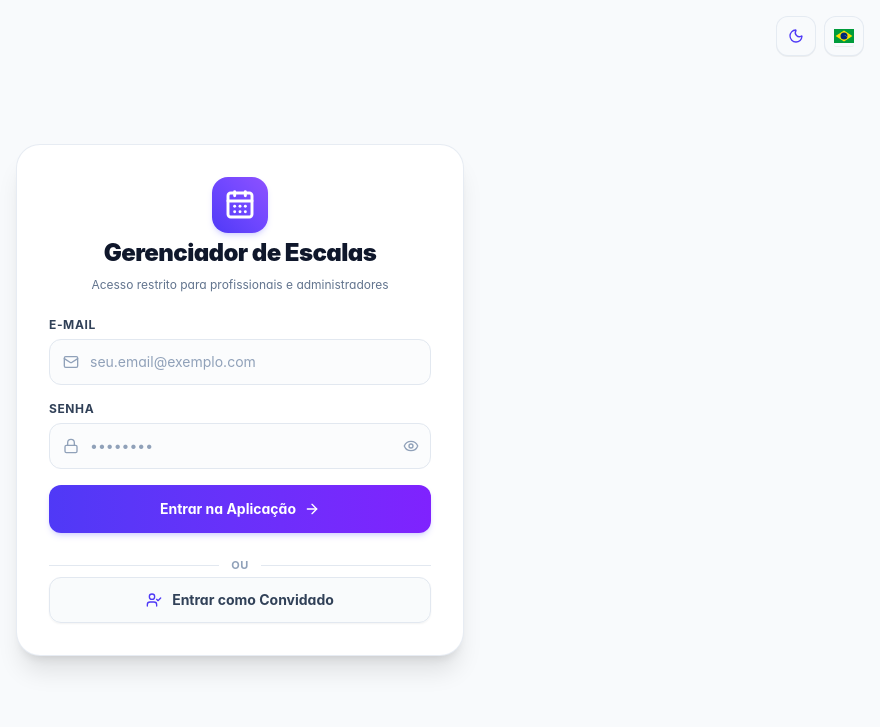
Test: LoginPage › shows a friendly error for invalid credentials
Type "errado@exemplo.com" into the field labelled "E-mail" at (240, 362), box [49, 339, 431, 385]
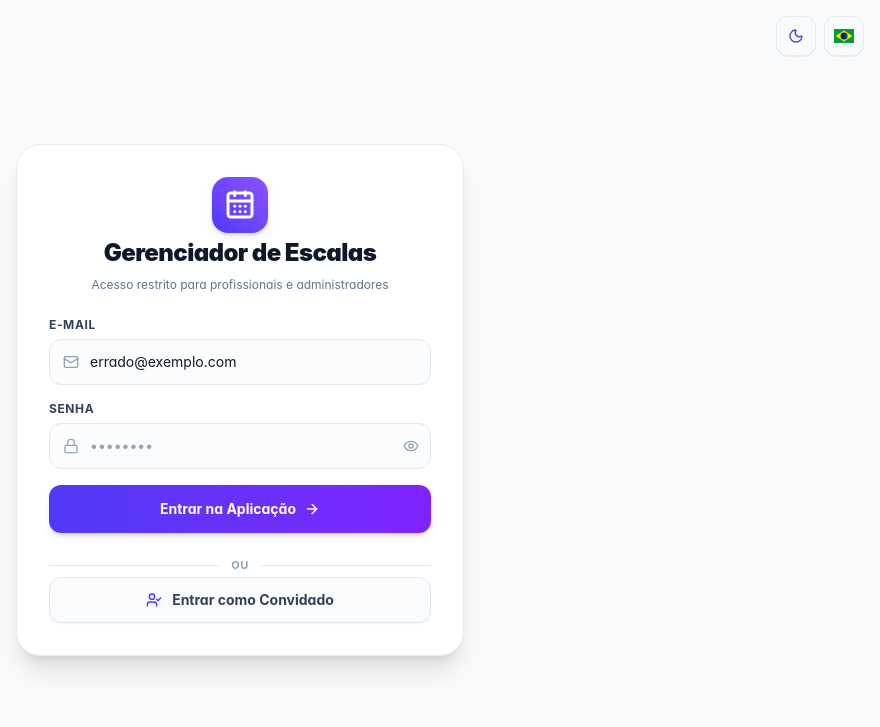
Type "senha123" into the password field labelled "Senha" at (240, 446), box [49, 423, 431, 469]
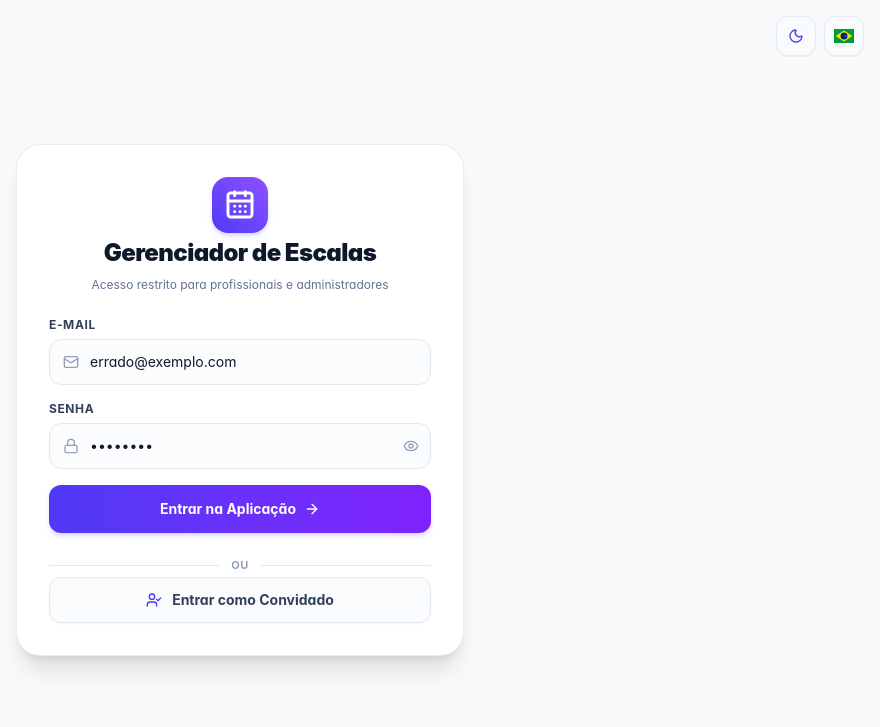
Click the button "Entrar na Aplicação" at (240, 509), box [49, 485, 431, 533]
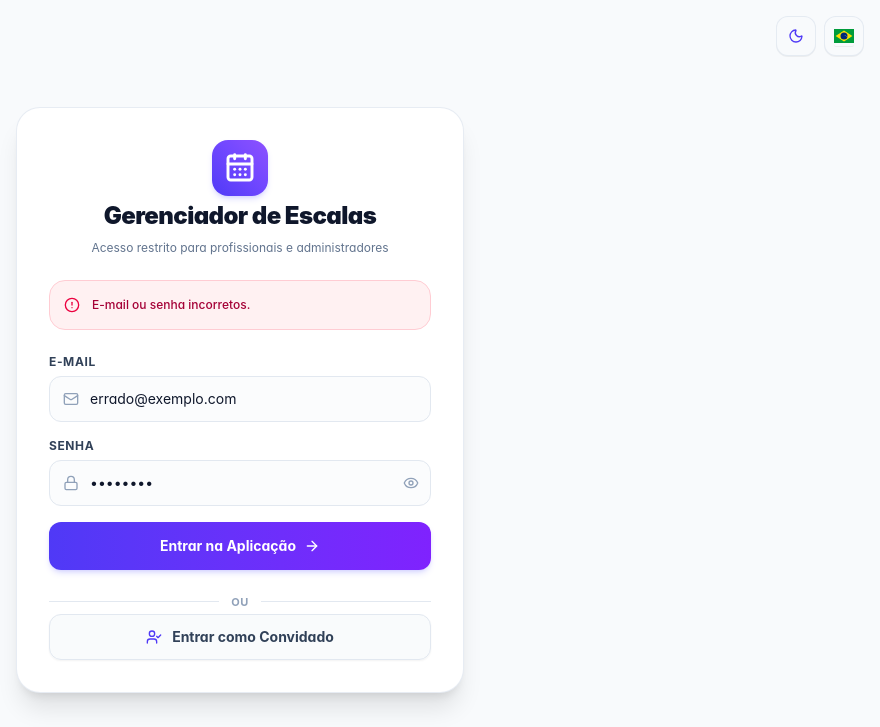
Expected: the message "E-mail ou senha incorretos." is shown, [49, 280, 431, 330]
Expected: the text "E-mail ou senha incorretos." is shown, [92, 295, 250, 314]
